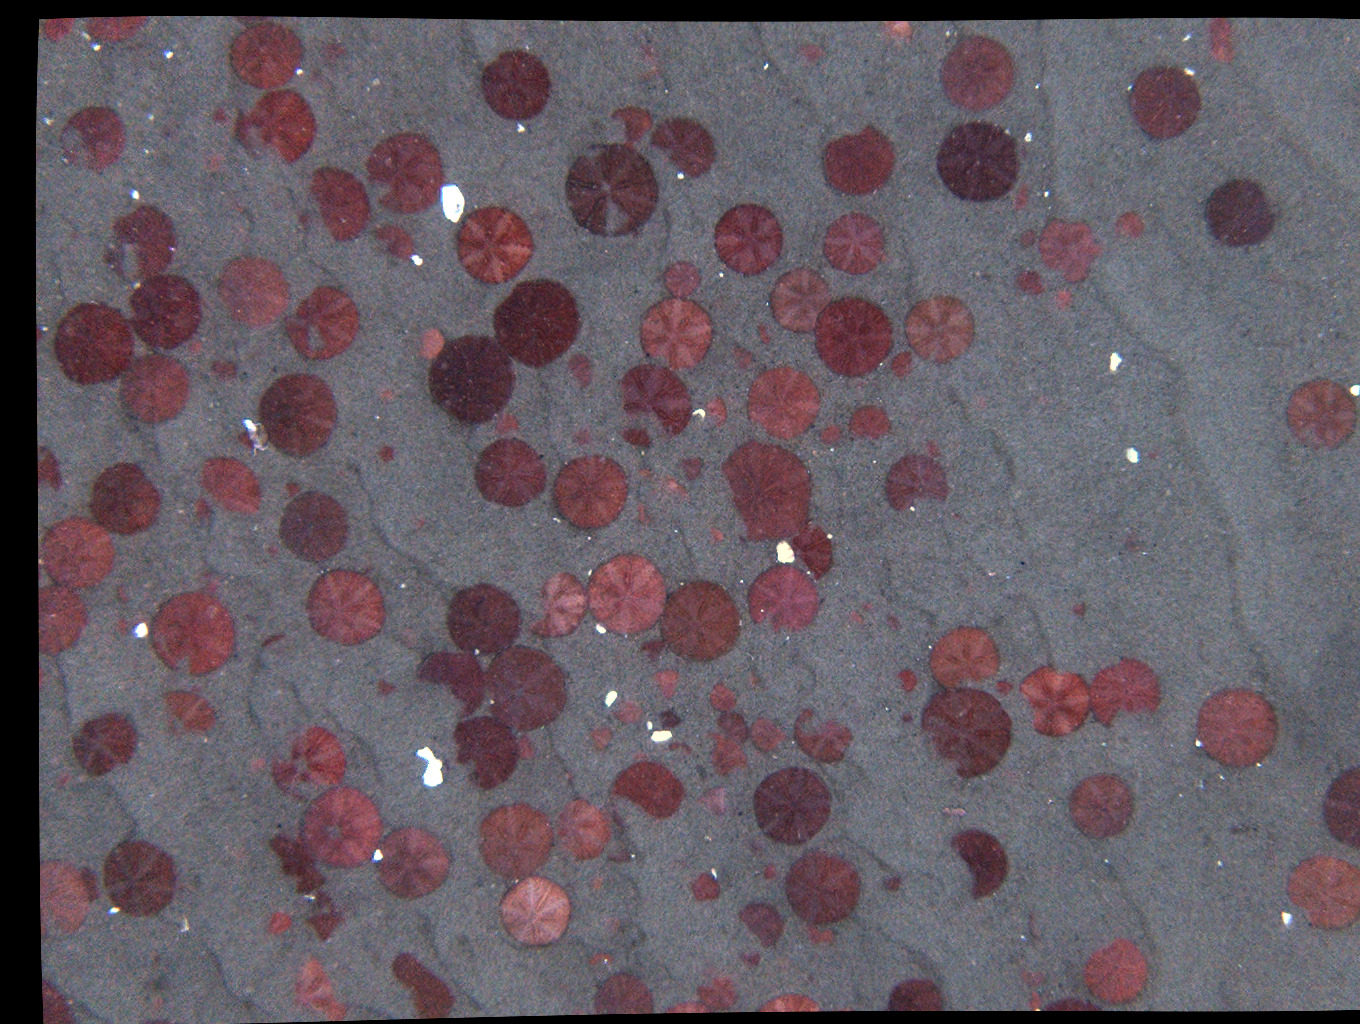Hermit crab: (231, 410, 274, 460)
Small shell hash: (120, 82, 137, 98)
Substrate A: (160, 68, 176, 98)
sand dollar: (479, 644, 572, 733), (153, 592, 237, 675), (309, 566, 389, 644), (613, 753, 693, 831), (281, 945, 361, 1024), (268, 723, 348, 801), (613, 256, 693, 335), (611, 254, 691, 332), (609, 252, 689, 330), (599, 242, 679, 321), (597, 240, 677, 318), (595, 238, 675, 316), (583, 226, 663, 304), (581, 224, 661, 302), (569, 212, 649, 290), (567, 210, 647, 288), (450, 207, 531, 285), (367, 138, 447, 216), (545, 790, 625, 868), (377, 825, 457, 904), (301, 790, 381, 868), (250, 823, 330, 901), (74, 710, 154, 788), (48, 510, 128, 588), (189, 451, 269, 529), (607, 250, 687, 328), (593, 236, 673, 314), (579, 222, 659, 300), (566, 208, 645, 286), (585, 556, 665, 634), (496, 872, 576, 950), (380, 940, 460, 1018), (585, 228, 665, 305), (571, 214, 652, 291), (481, 49, 561, 127), (448, 577, 528, 654), (402, 645, 482, 723), (443, 715, 522, 793), (473, 801, 553, 879), (106, 845, 186, 923), (278, 489, 358, 567), (100, 463, 180, 540), (617, 260, 697, 338), (615, 258, 695, 336), (605, 248, 685, 326), (603, 246, 683, 324), (601, 244, 681, 322), (591, 234, 671, 312), (589, 232, 669, 310), (587, 230, 667, 308), (577, 221, 657, 298), (575, 218, 655, 296), (573, 216, 653, 294), (563, 207, 643, 284), (41, 858, 99, 945), (32, 588, 98, 662), (524, 571, 586, 638), (162, 689, 226, 738), (301, 887, 357, 938), (611, 96, 663, 147), (91, 14, 154, 44), (37, 443, 74, 485), (1010, 267, 1049, 303), (854, 407, 893, 443), (681, 447, 720, 484), (698, 394, 738, 430), (553, 411, 592, 447), (209, 95, 248, 131), (368, 436, 407, 472), (1053, 281, 1092, 317), (1011, 179, 1050, 215), (612, 838, 652, 874), (610, 695, 649, 731), (43, 982, 80, 1022), (1015, 224, 1054, 260), (874, 349, 913, 385), (788, 38, 827, 74), (558, 350, 597, 386), (321, 39, 360, 75), (1107, 210, 1146, 246), (686, 867, 725, 904), (699, 778, 738, 814), (708, 738, 747, 774), (585, 721, 624, 757), (713, 705, 751, 741), (699, 680, 738, 716), (648, 663, 687, 699), (642, 625, 681, 662), (103, 579, 142, 615), (235, 748, 274, 784), (255, 905, 294, 941), (735, 938, 774, 975), (814, 919, 853, 955), (872, 610, 911, 646), (887, 667, 926, 703), (410, 328, 449, 364), (722, 335, 762, 370), (652, 473, 691, 509), (80, 868, 119, 904), (1056, 585, 1096, 621), (816, 419, 855, 455), (877, 17, 916, 53), (660, 262, 699, 298), (40, 16, 78, 52), (488, 403, 527, 439), (284, 458, 323, 494), (213, 359, 252, 395), (233, 415, 272, 451), (378, 234, 417, 270), (589, 902, 628, 938), (745, 716, 784, 752), (650, 699, 689, 735), (519, 730, 558, 766), (358, 671, 397, 707), (1008, 959, 1047, 995), (692, 516, 731, 552), (757, 854, 796, 890), (874, 868, 913, 904), (978, 670, 1017, 706)
